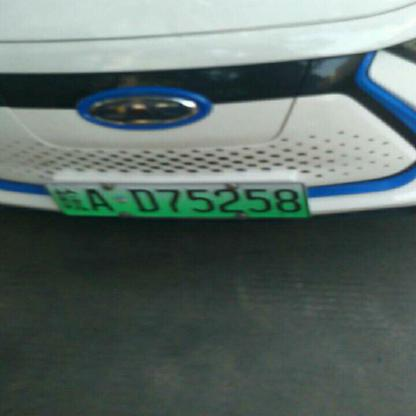lp: (42, 184, 67, 217)
